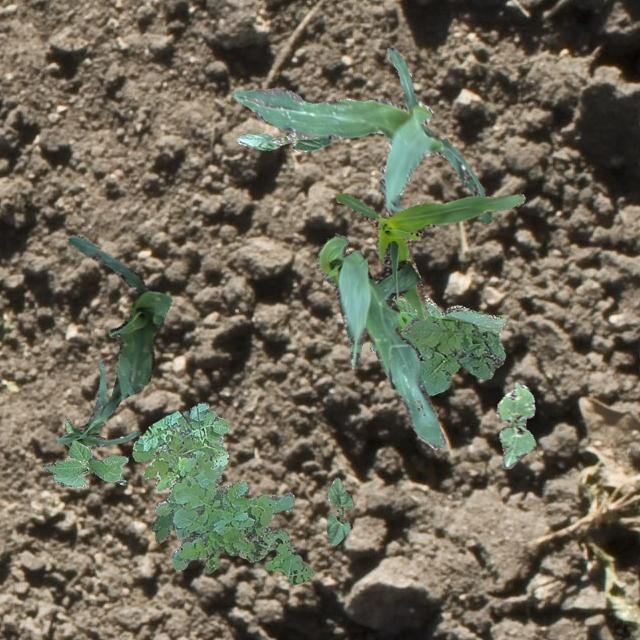crop: (232, 46, 492, 222), (316, 234, 446, 448), (334, 190, 524, 318), (68, 234, 170, 416), (56, 359, 140, 484), (368, 293, 506, 351), (42, 439, 126, 486), (496, 380, 534, 468), (326, 476, 352, 546), (236, 132, 330, 150)
weed: (132, 402, 314, 584), (398, 316, 504, 394), (151, 486, 223, 542), (396, 310, 442, 330)
